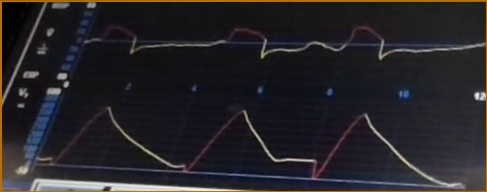Ineffective_effort Flow: (84, 13, 485, 75)
Ineffective_effort Volume: (35, 103, 464, 185)
